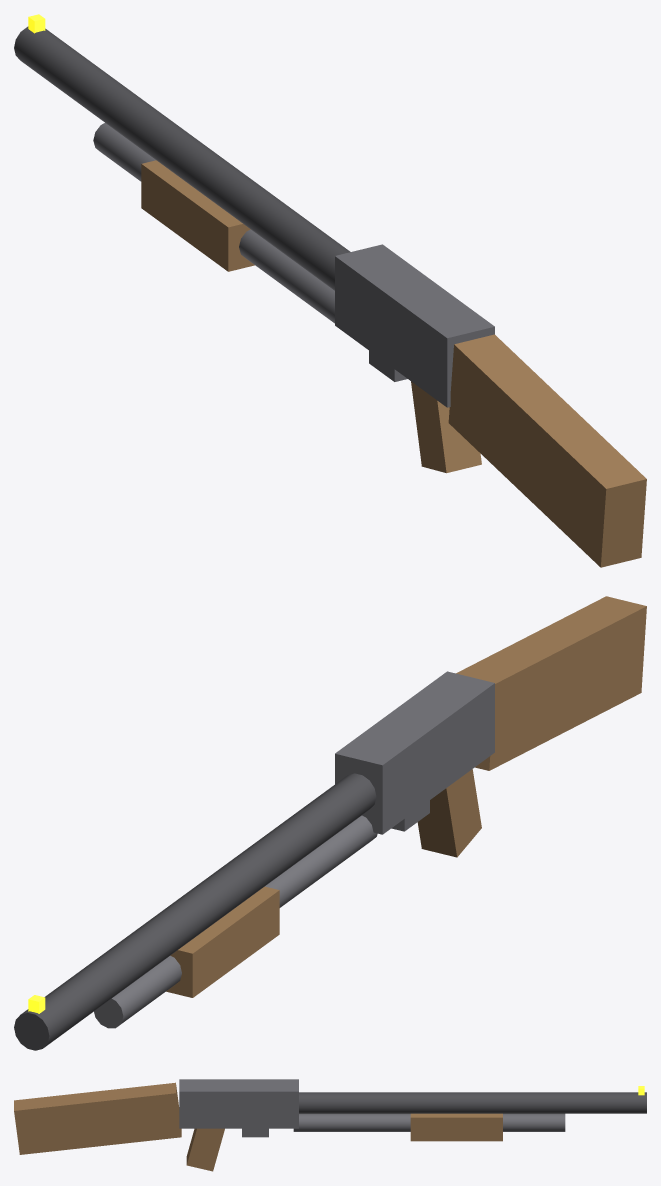
Rendered from escopeta.glb.
3 renders of one model, top to bottom at view 1: azimuth 30°, elevation 25°; view 2: azimuth 150°, elevation 25°; view 3: azimuth 270°, elevation 25°, orthographic. The views are drawn at different scales.
Parts seen in each view (by area): view 1: Escopeta; view 2: Escopeta; view 3: Escopeta.
Boxes of the visible parts, <box> form: Escopeta: <box>14,14,646,567</box>; Escopeta: <box>14,596,646,1050</box>; Escopeta: <box>14,1079,646,1171</box>.
Size of the model in its own units: 0.058 by 0.1651 by 1.16.
